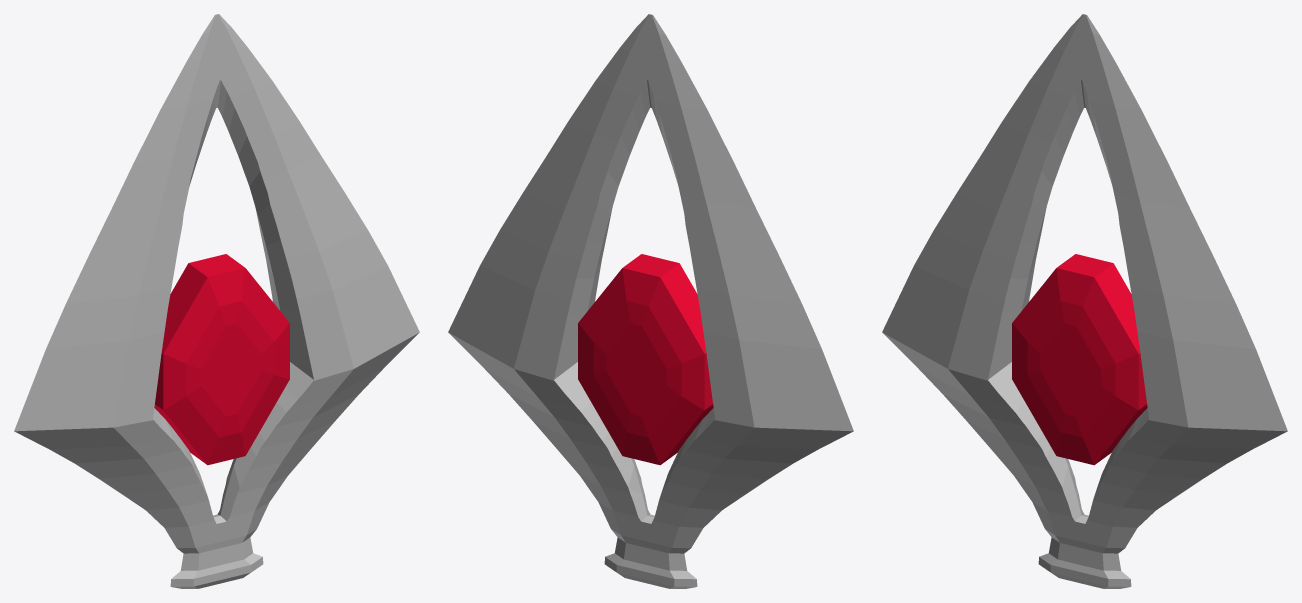
3 views of the same model, side by side, from view 1: azimuth 30°, elevation 25°; view 2: azimuth 150°, elevation 25°; view 3: azimuth 330°, elevation 25° (orthographic).
Visible parts, largest first — view 1: 立方体, 立方体.001; view 2: 立方体, 立方体.001; view 3: 立方体, 立方体.001.
Boxes of the visible parts, x1=… form: 立方体: x1=14, y1=14, x2=419, y2=588; 立方体.001: x1=154, y1=254, x2=289, y2=465; 立方体: x1=448, y1=14, x2=853, y2=588; 立方体.001: x1=578, y1=254, x2=713, y2=465; 立方体: x1=882, y1=14, x2=1287, y2=588; 立方体.001: x1=1012, y1=254, x2=1147, y2=465.
Size of the model in its own units: 173 by 231 by 24.89.
